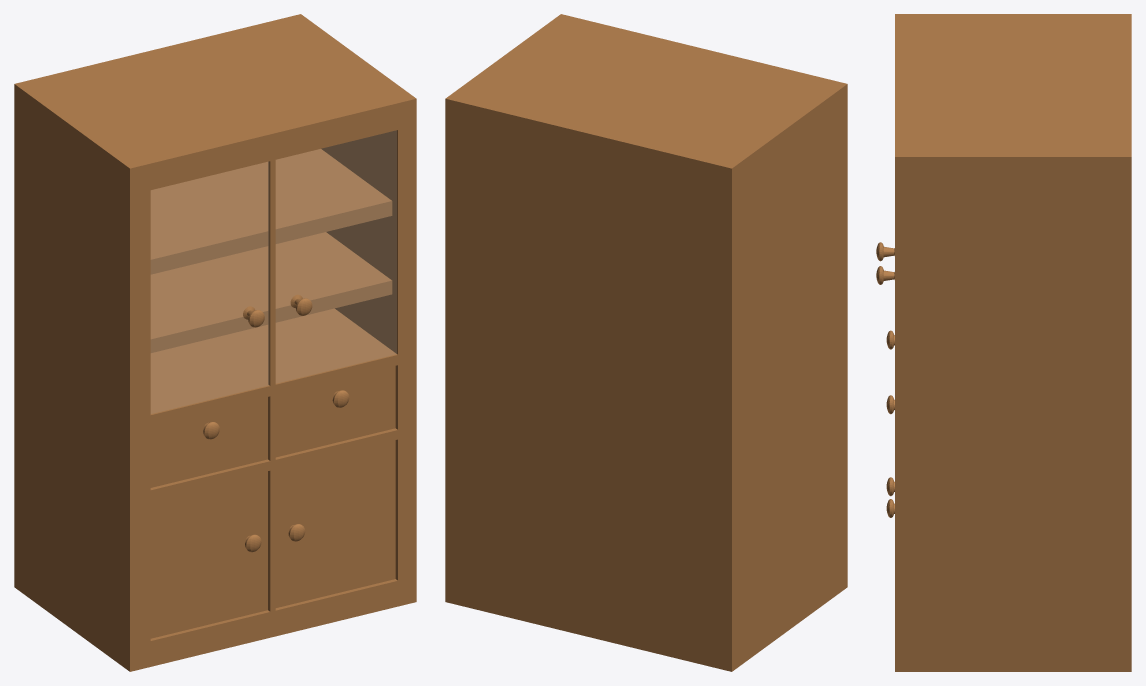
Rendered from tance.fbx.
3 renders of one model, left to right at view 1: azimuth 30°, elevation 25°; view 2: azimuth 150°, elevation 25°; view 3: azimuth 270°, elevation 25°, orthographic. The views are drawn at different scales.
Parts seen in each view (by area): view 1: Tance; view 2: Tance; view 3: Tance.
Boxes of the visible parts, left/top/right/bottom form: Tance: left=14, top=14, right=416, bottom=671; Tance: left=445, top=14, right=847, bottom=671; Tance: left=876, top=14, right=1131, bottom=671.
Bounding box in the file's own units: 594 × 997 × 448.
